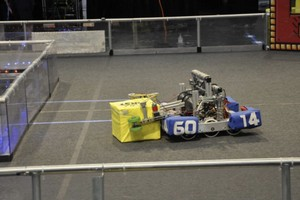cube: (109, 100, 162, 140)
